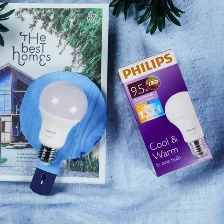book: (0, 0, 110, 190)
carton: (114, 43, 216, 182)
light_bulb: (29, 81, 88, 166)
